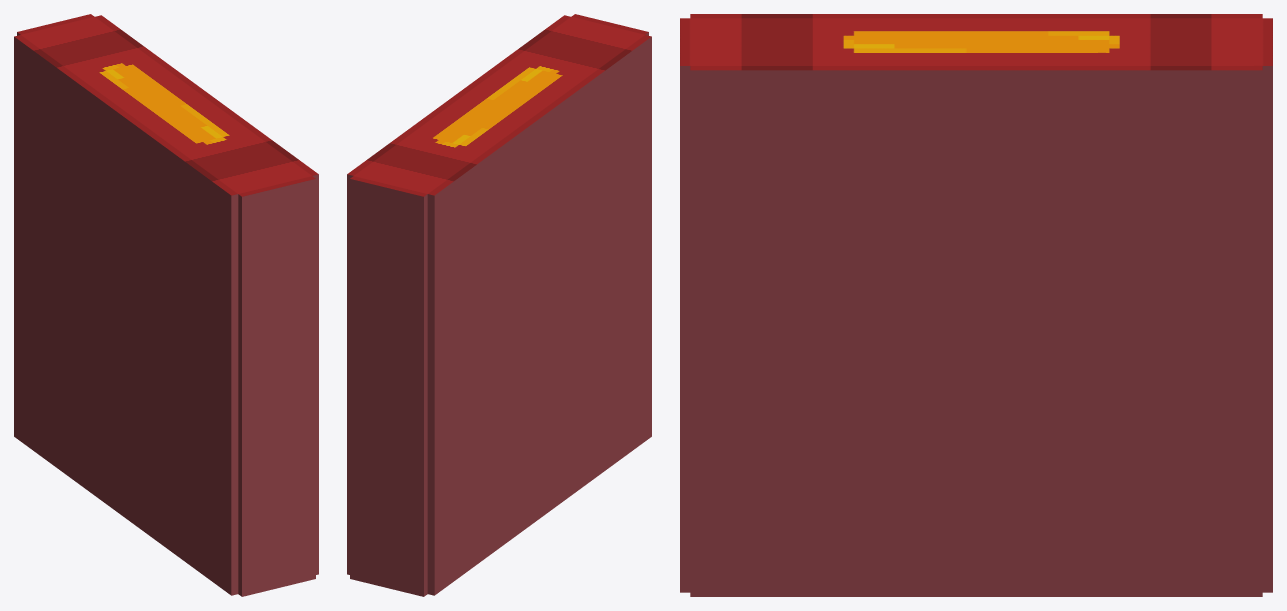
File: book3-1.glb
3 views of the same model, side by side, from view 1: azimuth 30°, elevation 25°; view 2: azimuth 150°, elevation 25°; view 3: azimuth 270°, elevation 25° (orthographic). The views are drawn at different scales.
Parts seen in each view (by area): view 1: book_spines-col; view 2: book_spines-col; view 3: book_spines-col.
Boxes of the visible parts, x1,y1,x2,y2 form: book_spines-col: (14,14,318,596); book_spines-col: (347,14,651,596); book_spines-col: (680,14,1272,596).
Size of the model in its own units: 0.2031 by 0.8884 by 0.9062.
2 materials, 1 textured.
